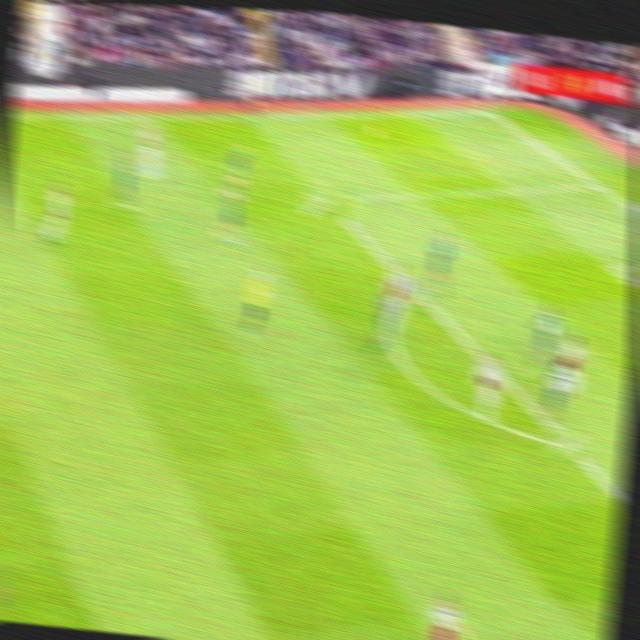bigarea_top_inner: (301, 179, 350, 221)
bigarea_top_outter: (580, 168, 610, 204)
bottom_arc_area_intersection: (546, 425, 584, 465)
corner: (474, 101, 499, 123)
smallarea_top_inner: (595, 251, 627, 286)
top_arc_area_intersection: (401, 277, 434, 308)
